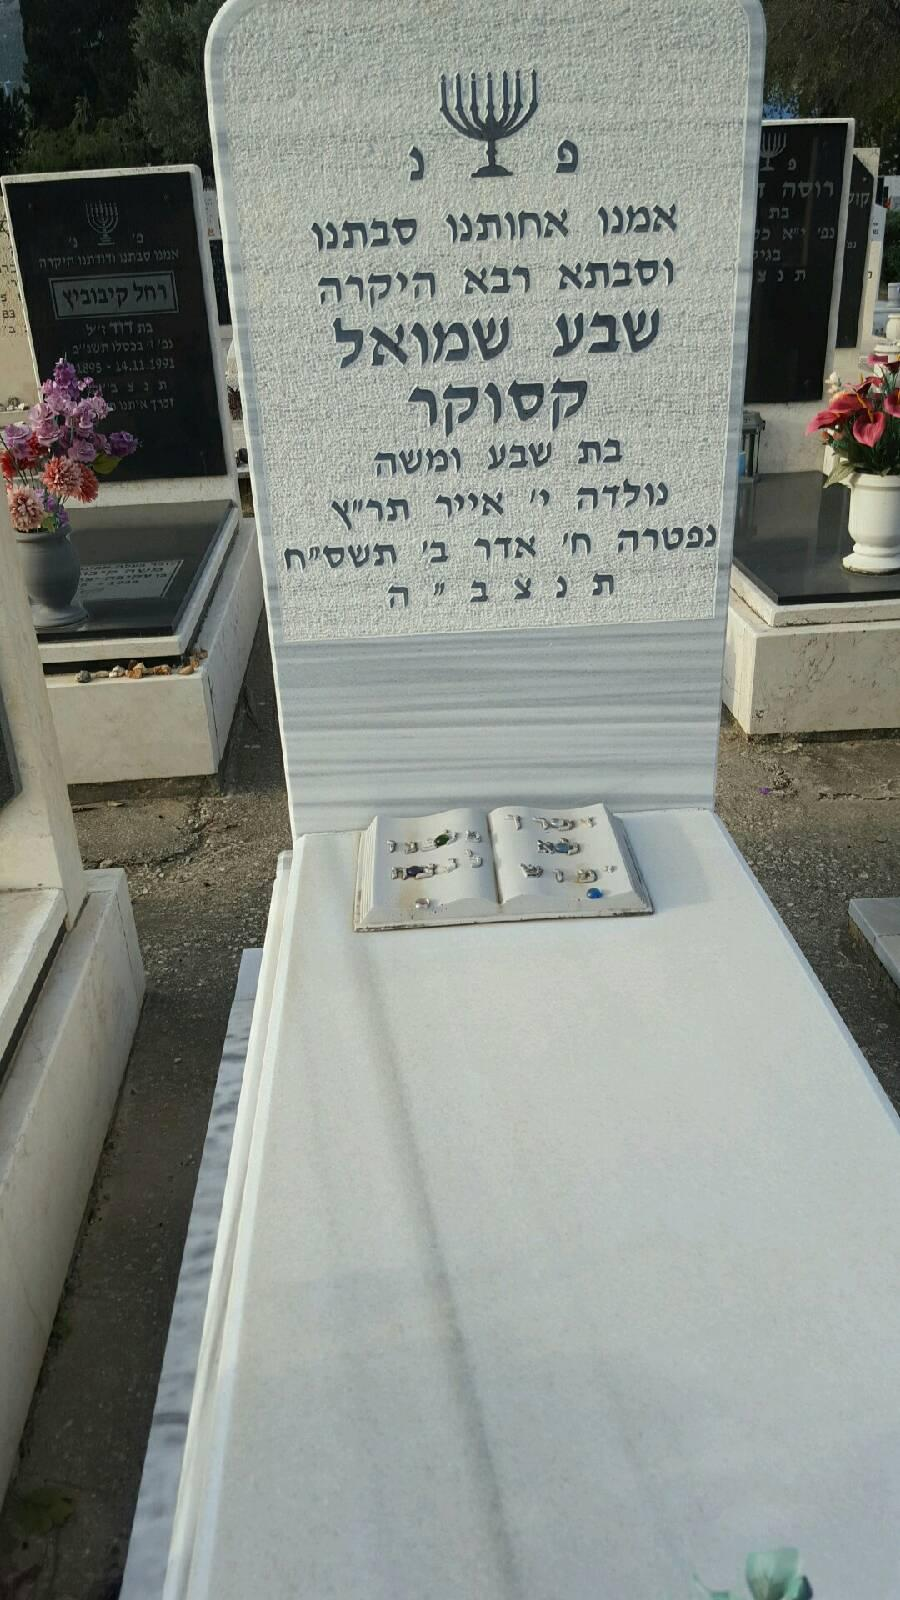vault: (120, 12, 885, 1600)
